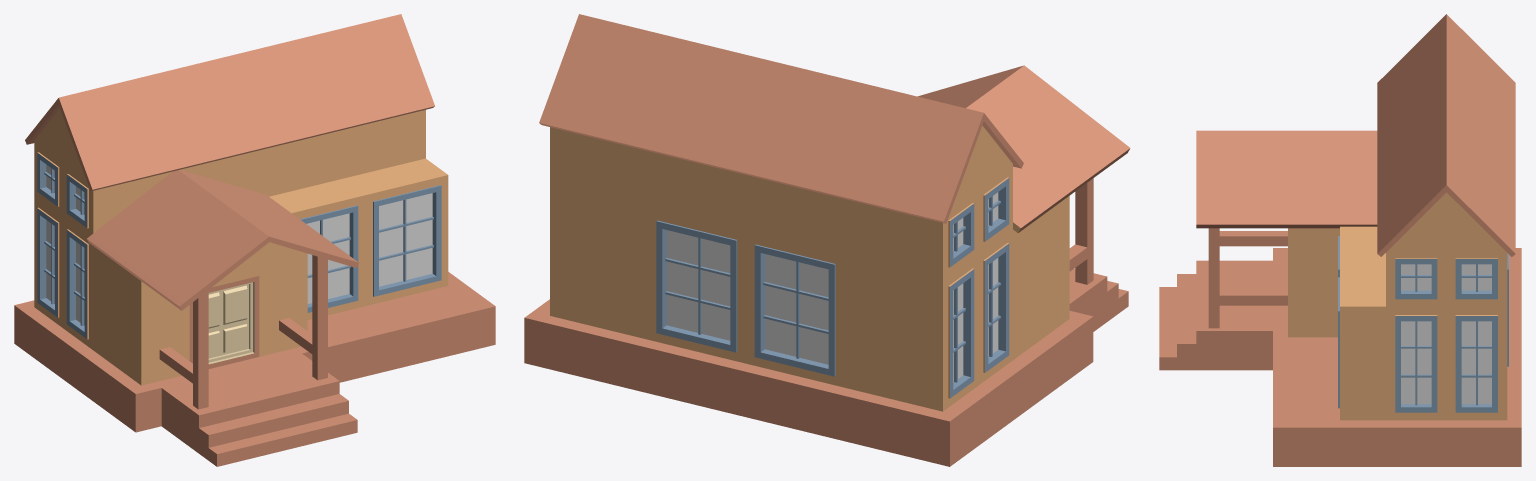
The model's file is suburban-house-B.fbx.
3 renders of one model, left to right at view 1: azimuth 30°, elevation 25°; view 2: azimuth 150°, elevation 25°; view 3: azimuth 270°, elevation 25°, orthographic. The views are drawn at different scales.
Visible parts, largest first — view 1: suburban-house-B; view 2: suburban-house-B; view 3: suburban-house-B.
Boxes of the visible parts, left/top/right/bottom form: suburban-house-B: left=14, top=14, right=495, bottom=466; suburban-house-B: left=524, top=14, right=1130, bottom=466; suburban-house-B: left=1159, top=14, right=1521, bottom=466.
Bounding box in the file's own units: 12.57 × 9.04 × 10.71.
